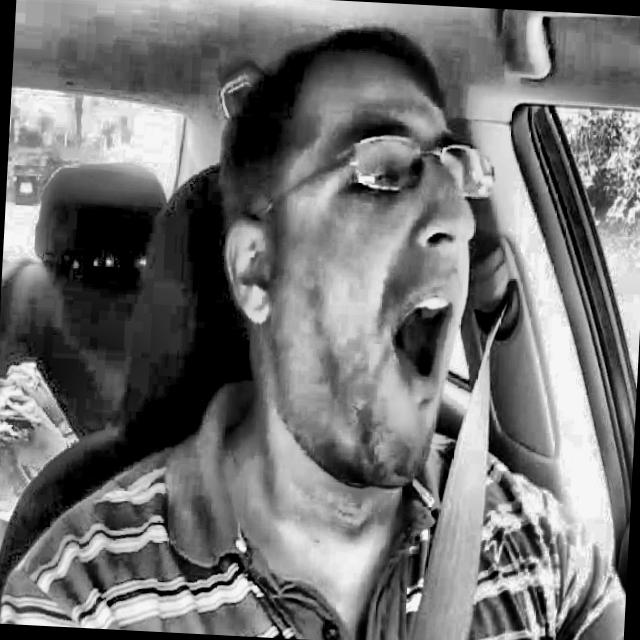open_mouth: (381, 283, 464, 410)
